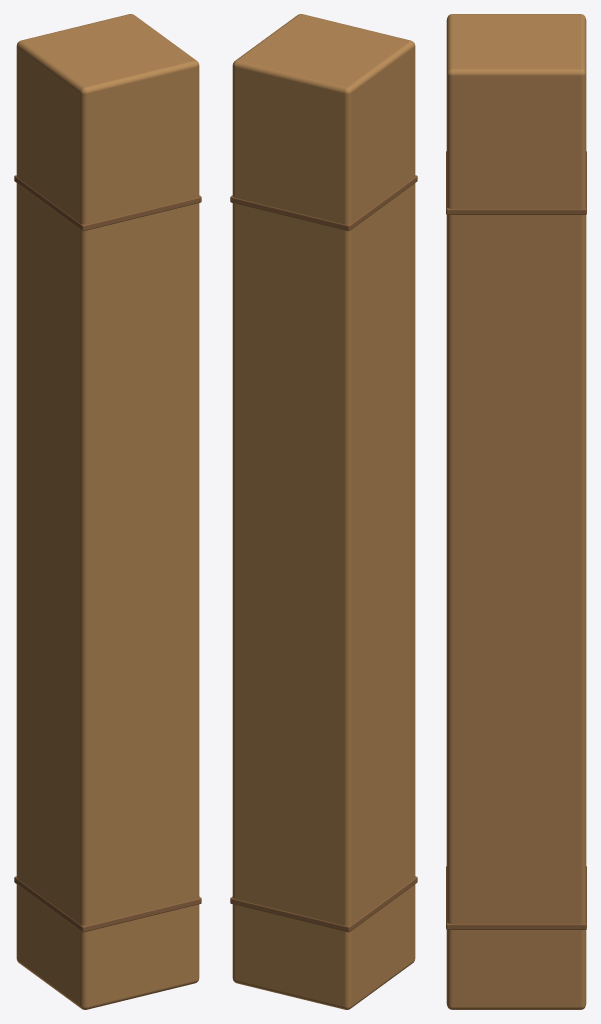
Rendered from counter-support-101-117.glb.
3 views of the same model, side by side, from view 1: azimuth 30°, elevation 25°; view 2: azimuth 150°, elevation 25°; view 3: azimuth 270°, elevation 25° (orthographic).
Visible parts, largest first — view 1: wood, edge; view 2: wood, edge; view 3: wood, edge.
Boxes of the visible parts, box(x1,y1,x2,y2) form: wood: box(16, 14, 199, 1009); edge: box(14, 175, 201, 932); wood: box(232, 14, 415, 1009); edge: box(230, 175, 417, 932); wood: box(446, 14, 586, 1009); edge: box(446, 151, 586, 929).
Bounding box in the file's own units: 2.02 × 14.9 × 2.02.
